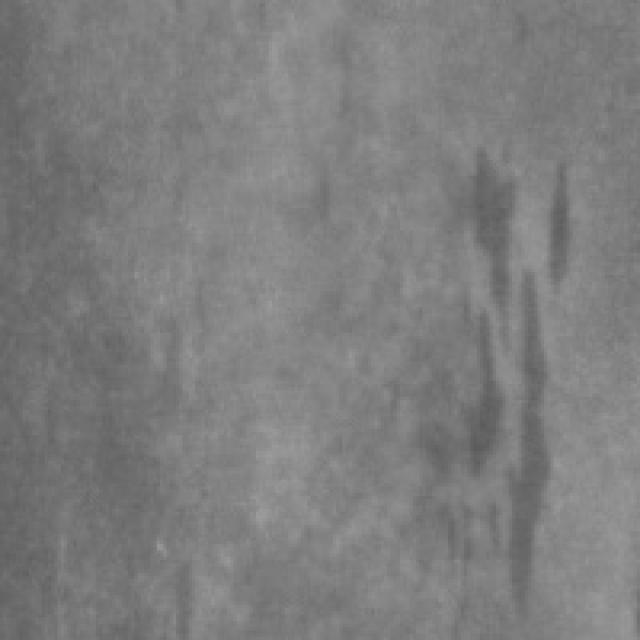inclusion: (429, 134, 573, 624)
